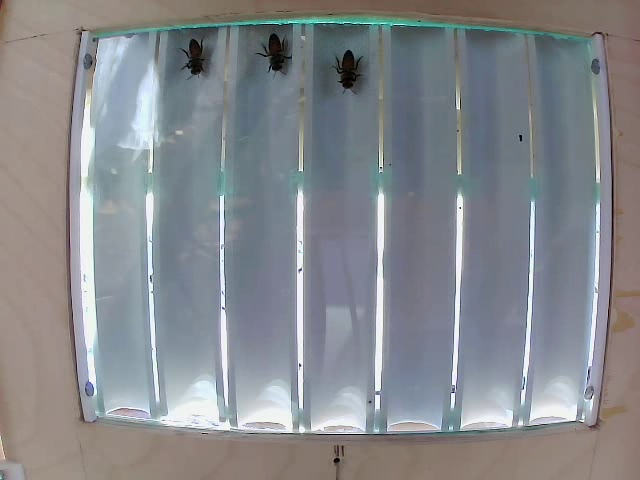bee: (251, 34, 295, 81), (331, 42, 364, 97), (179, 43, 217, 69)
